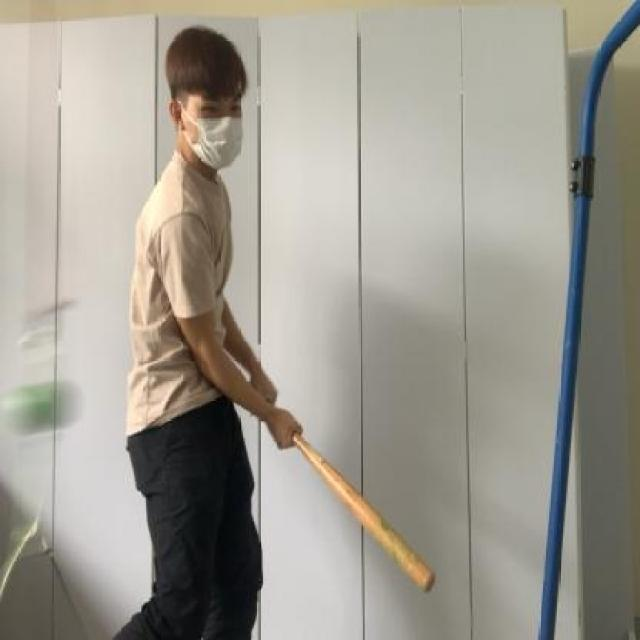baseball: (8, 373, 83, 432)
